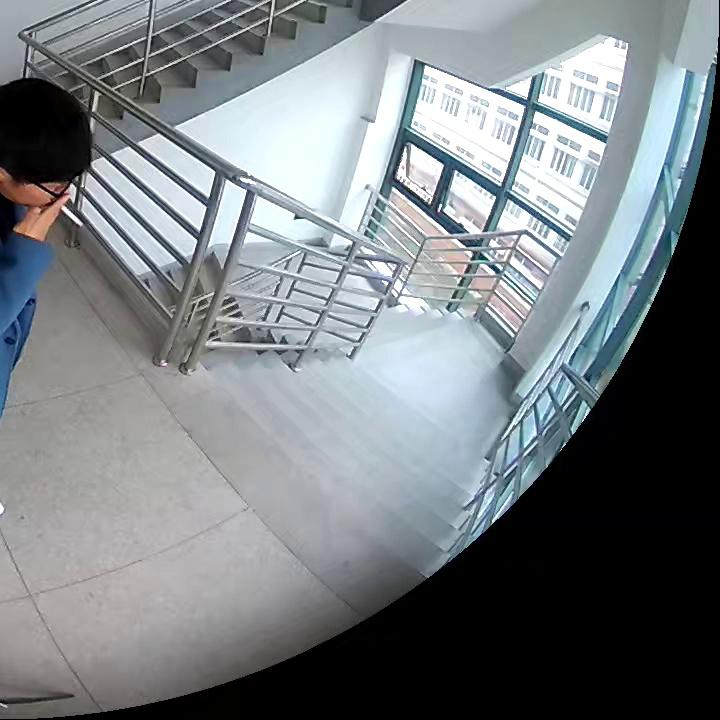mouthsmoke: (1, 77, 93, 239)
